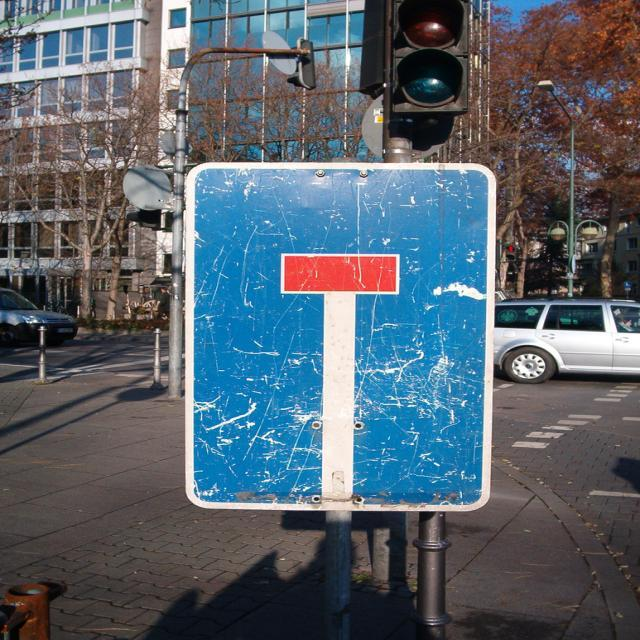road_sign: (185, 158, 494, 514)
traffic light: (390, 0, 468, 116)
